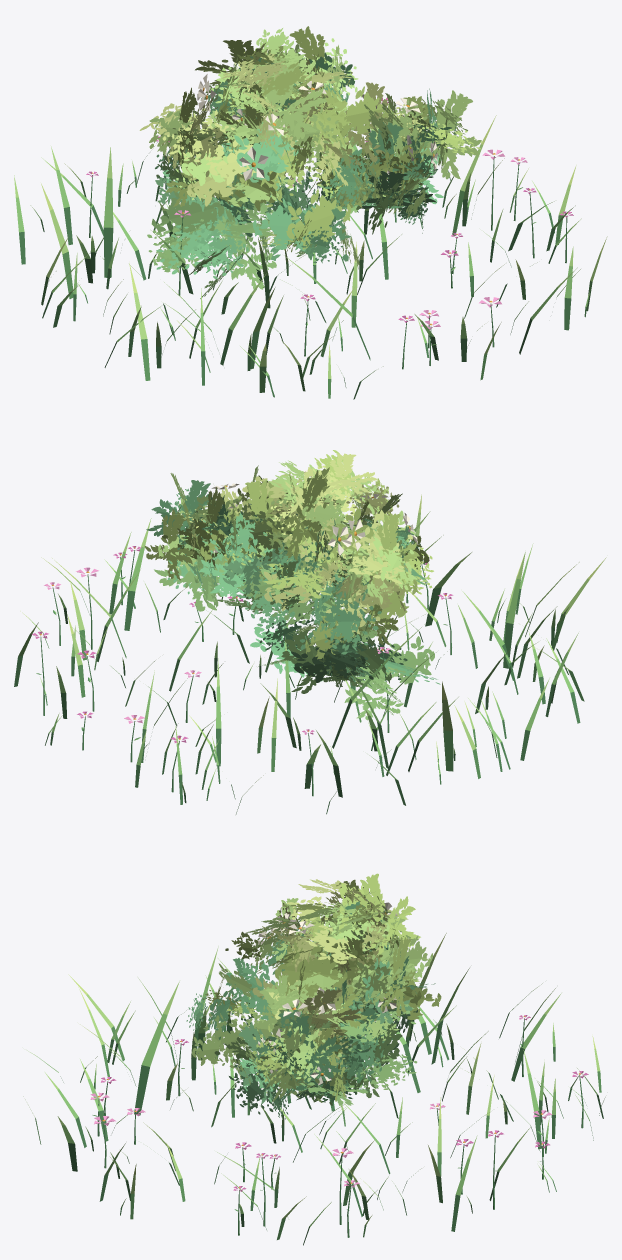
The model's file is Nature_Island_02_Bush_LOD1.glb.
3 renders of one model, top to bottom at view 1: azimuth 30°, elevation 25°; view 2: azimuth 150°, elevation 25°; view 3: azimuth 270°, elevation 25°, orthographic. The views are drawn at different scales.
Parts seen in each view (by area): view 1: Nature_Island_02_Bush_LOD1; view 2: Nature_Island_02_Bush_LOD1; view 3: Nature_Island_02_Bush_LOD1.
Part boxes in pixels (<box>): Nature_Island_02_Bush_LOD1: <box>14,26,607,399</box>; Nature_Island_02_Bush_LOD1: <box>14,450,606,814</box>; Nature_Island_02_Bush_LOD1: <box>23,873,605,1245</box>.
Bounding box in the file's own units: 3.38 × 1.68 × 3.54.
Materials: 16 (6 with a texture image).
